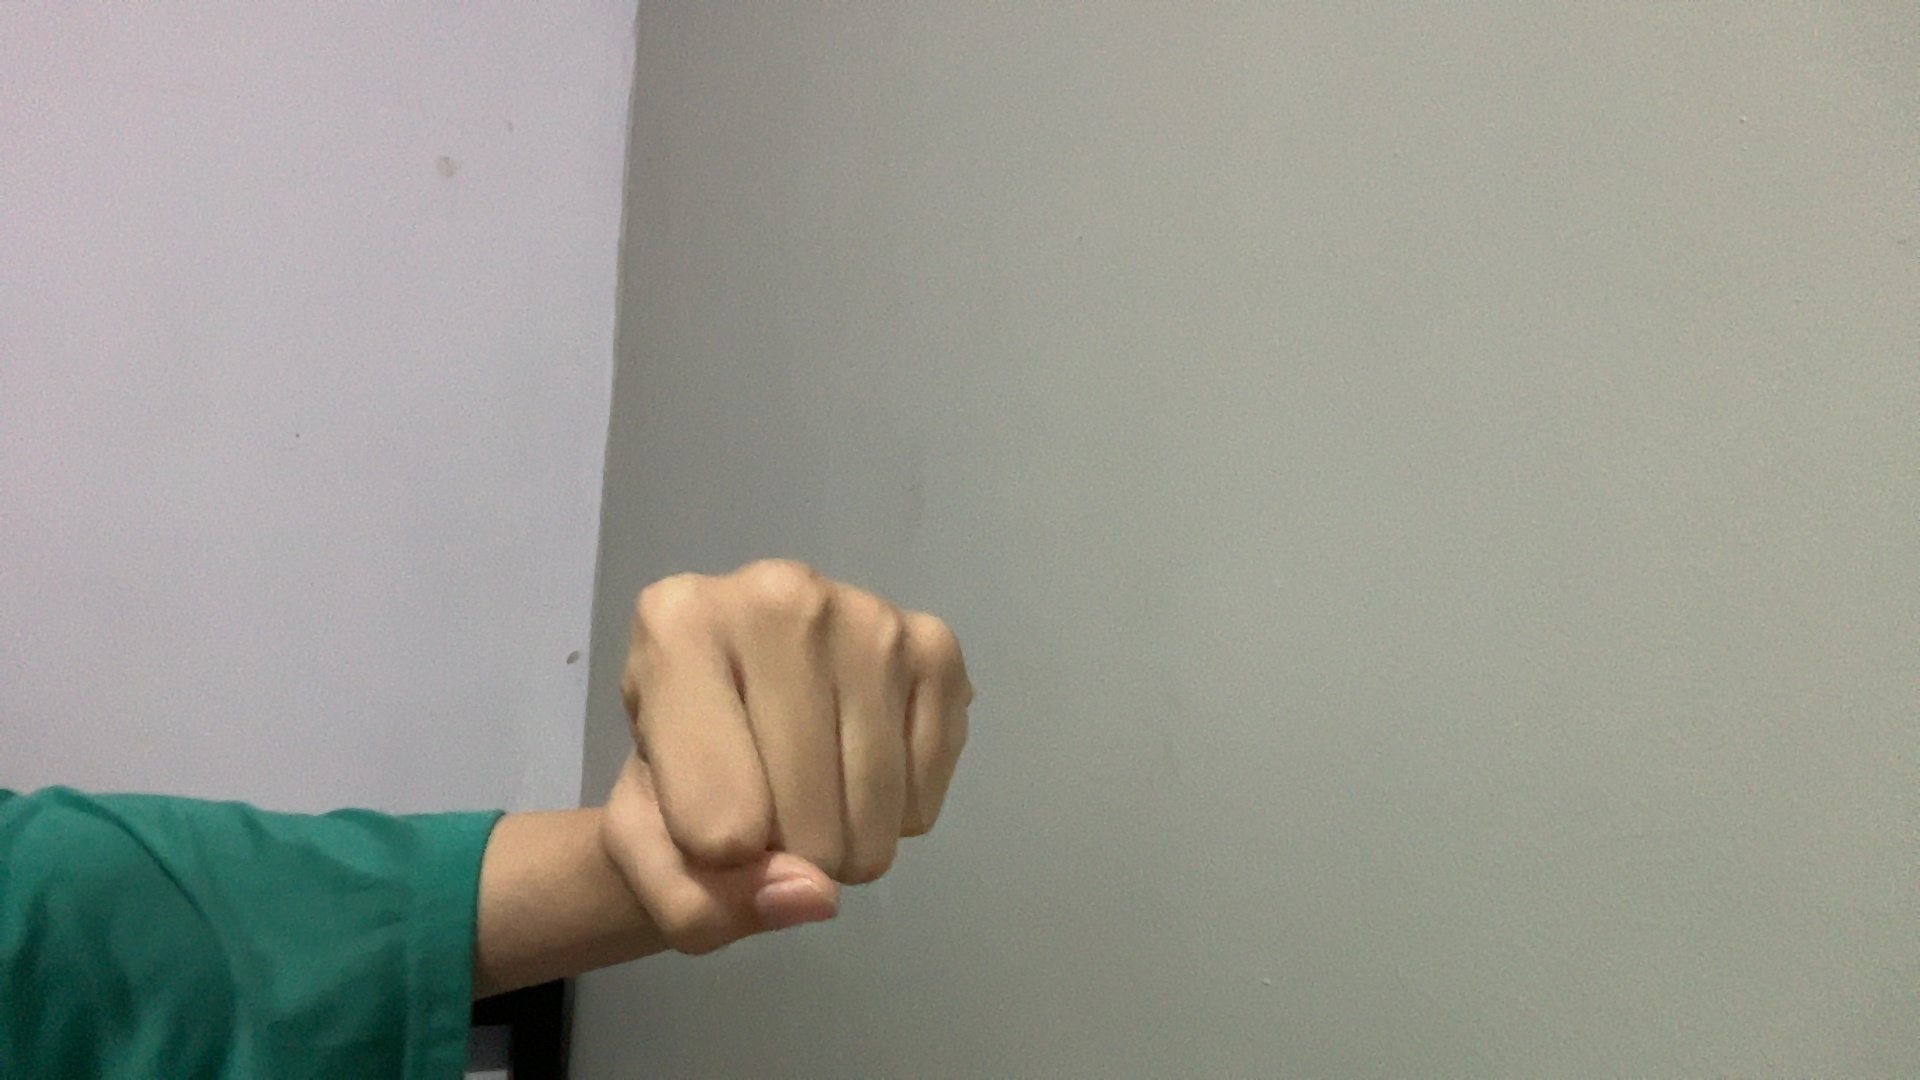Yes: (456, 467, 1217, 1059)
